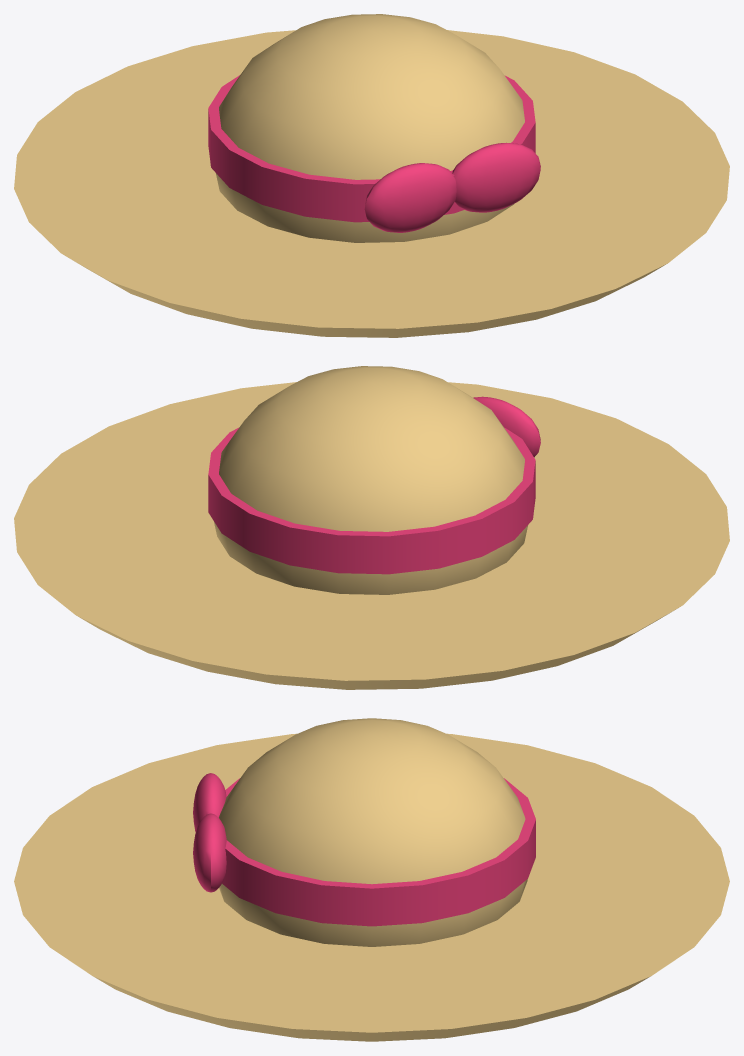
Rendered from journey_sunhat.glb.
The picture shows the model from 3 angles, top to bottom: view 1: azimuth 30°, elevation 25°; view 2: azimuth 150°, elevation 25°; view 3: azimuth 270°, elevation 25°; orthographic projection.
Visible parts, largest first — view 1: Hat_body; view 2: Hat_body; view 3: Hat_body.
Boxes of the visible parts, left/top/right/bottom form: Hat_body: left=14, top=14, right=729, bottom=337; Hat_body: left=14, top=366, right=729, bottom=689; Hat_body: left=14, top=718, right=729, bottom=1041.
Size of the model in its own units: 1.2 by 0.44 by 1.2.
